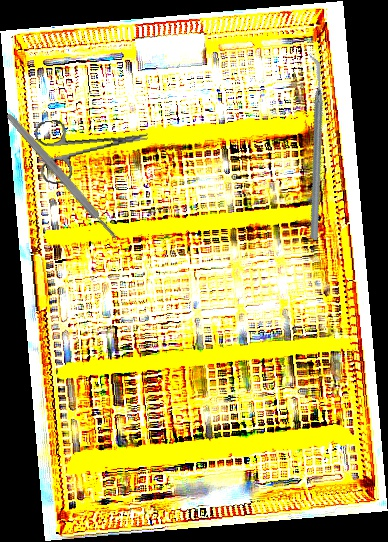Chopper: (239, 53, 388, 241)
Iris Scissors: (34, 107, 153, 186)
Scalpel Handle: (4, 111, 120, 242)
